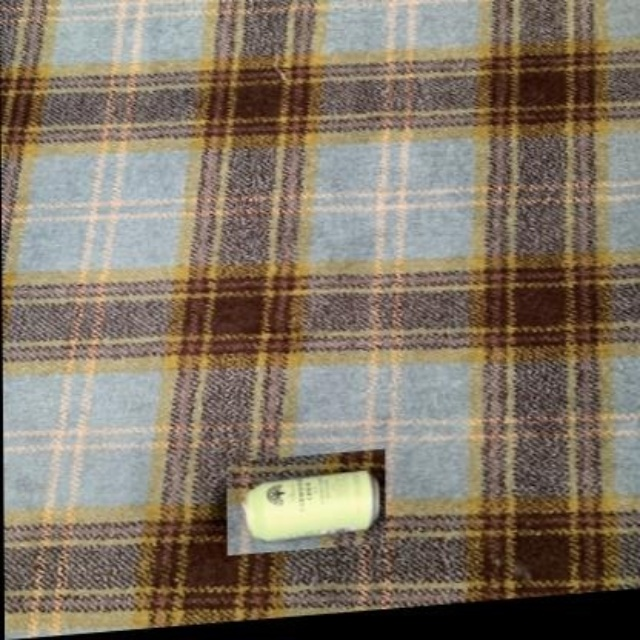trash: (243, 471, 378, 540)
